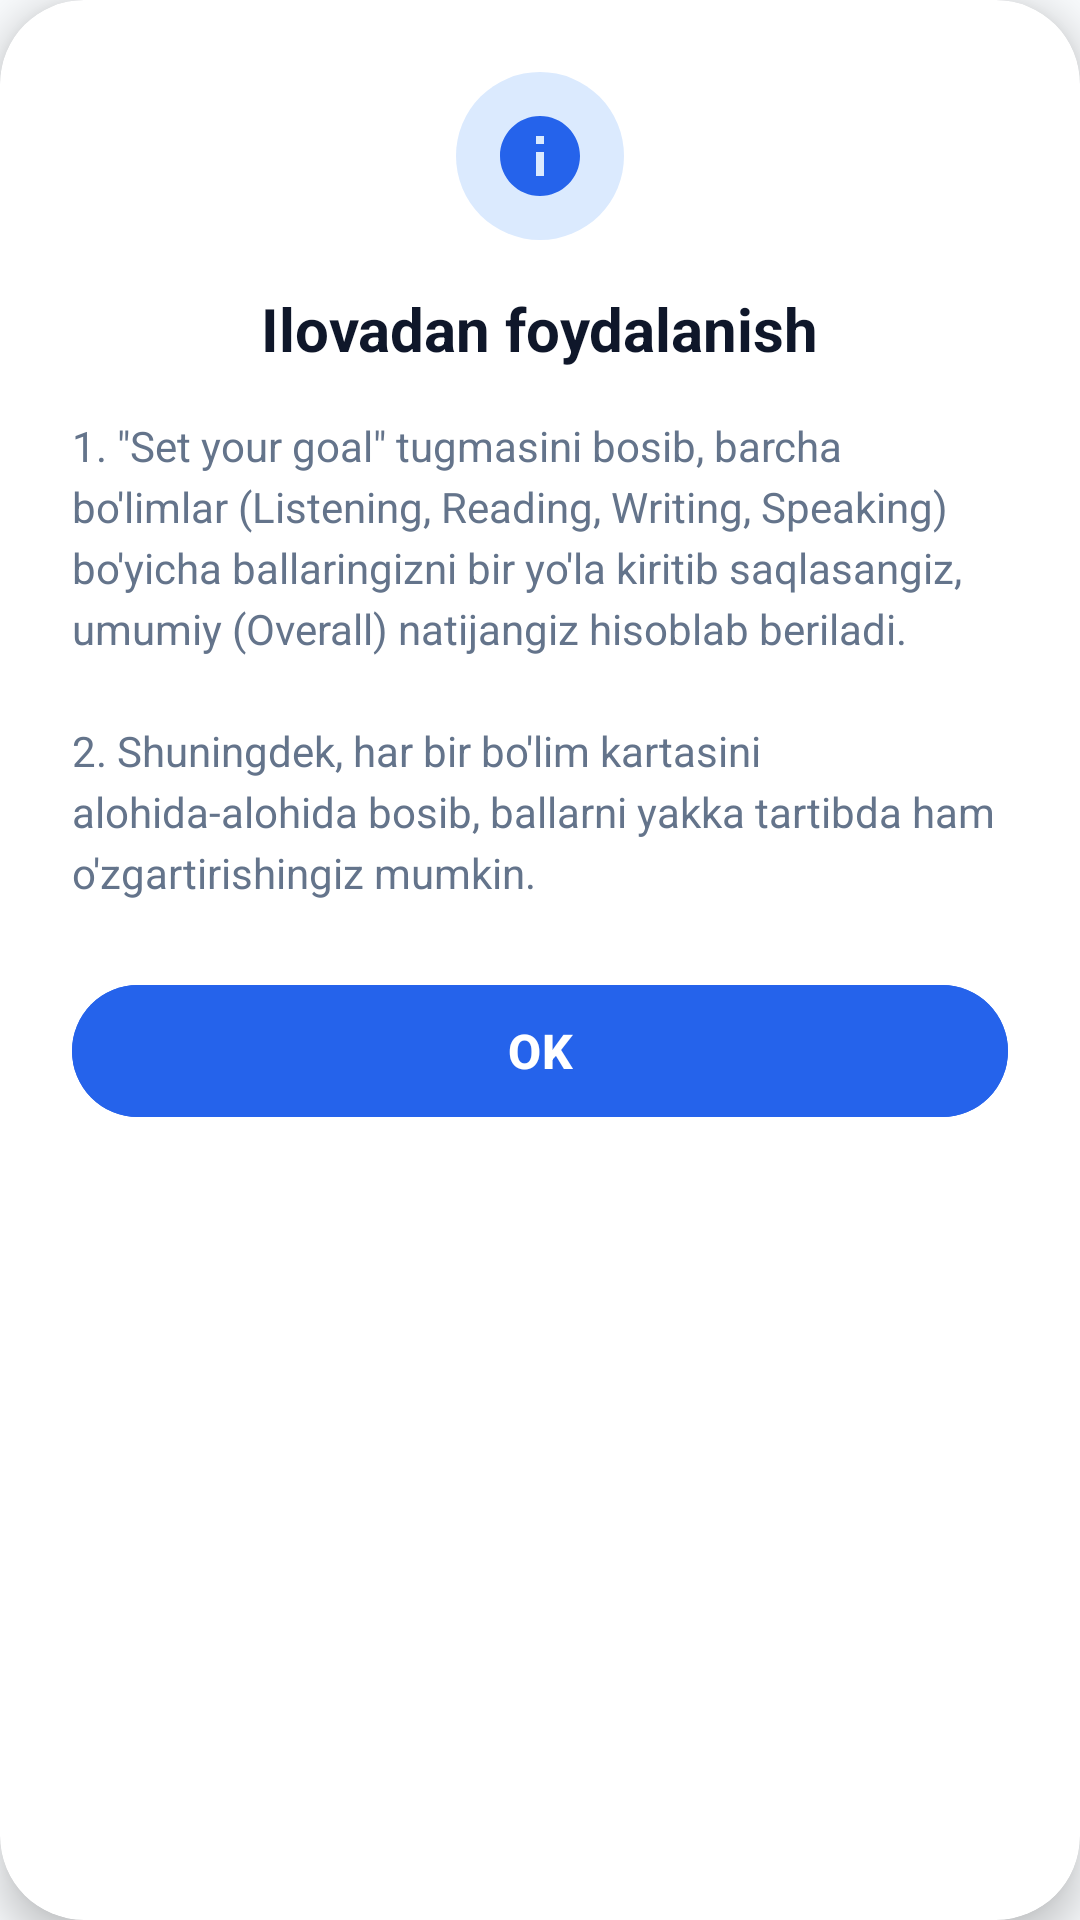

Named icons in this screenshot (1080 x 1920) and their centers, [x,y]:
info: [540,156]
